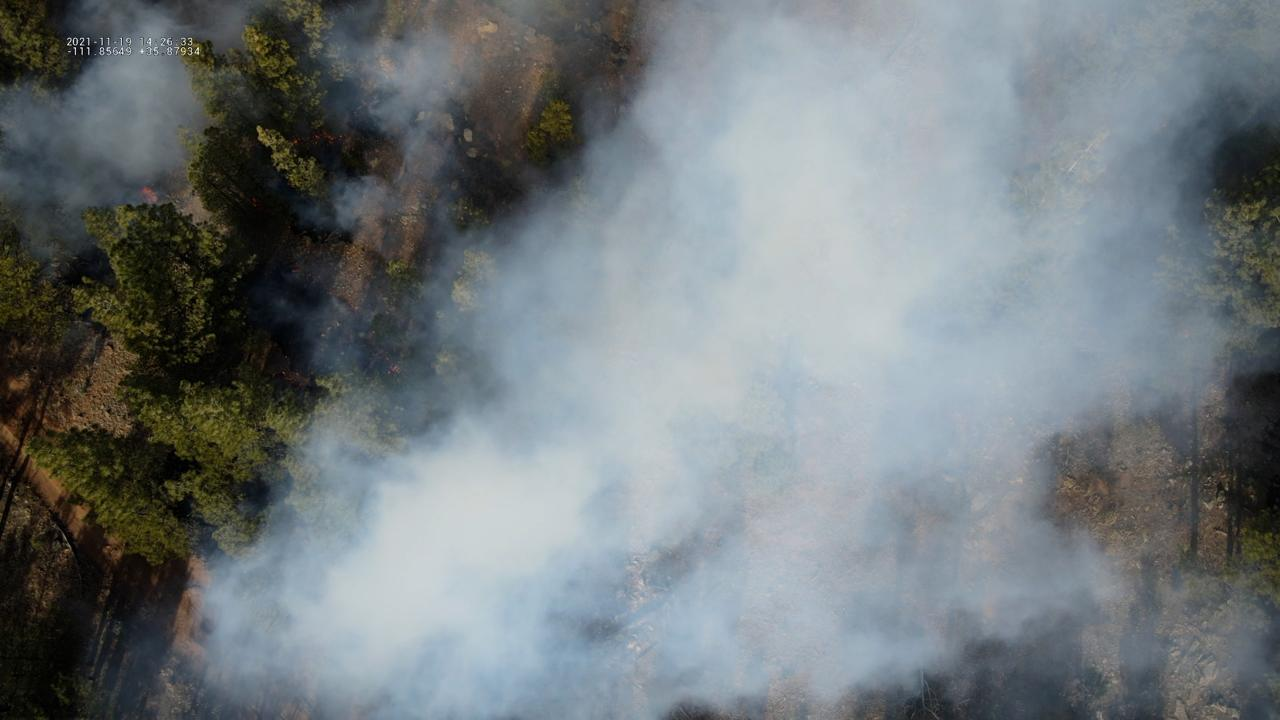fire: (289, 129, 340, 148), (138, 186, 160, 207), (248, 197, 259, 209), (290, 268, 302, 273)
smoke: (0, 0, 1280, 720)
